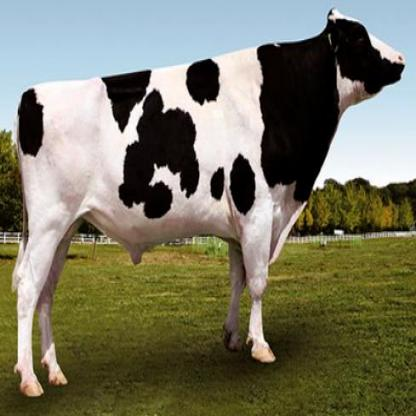cow: (17, 19, 404, 397)
